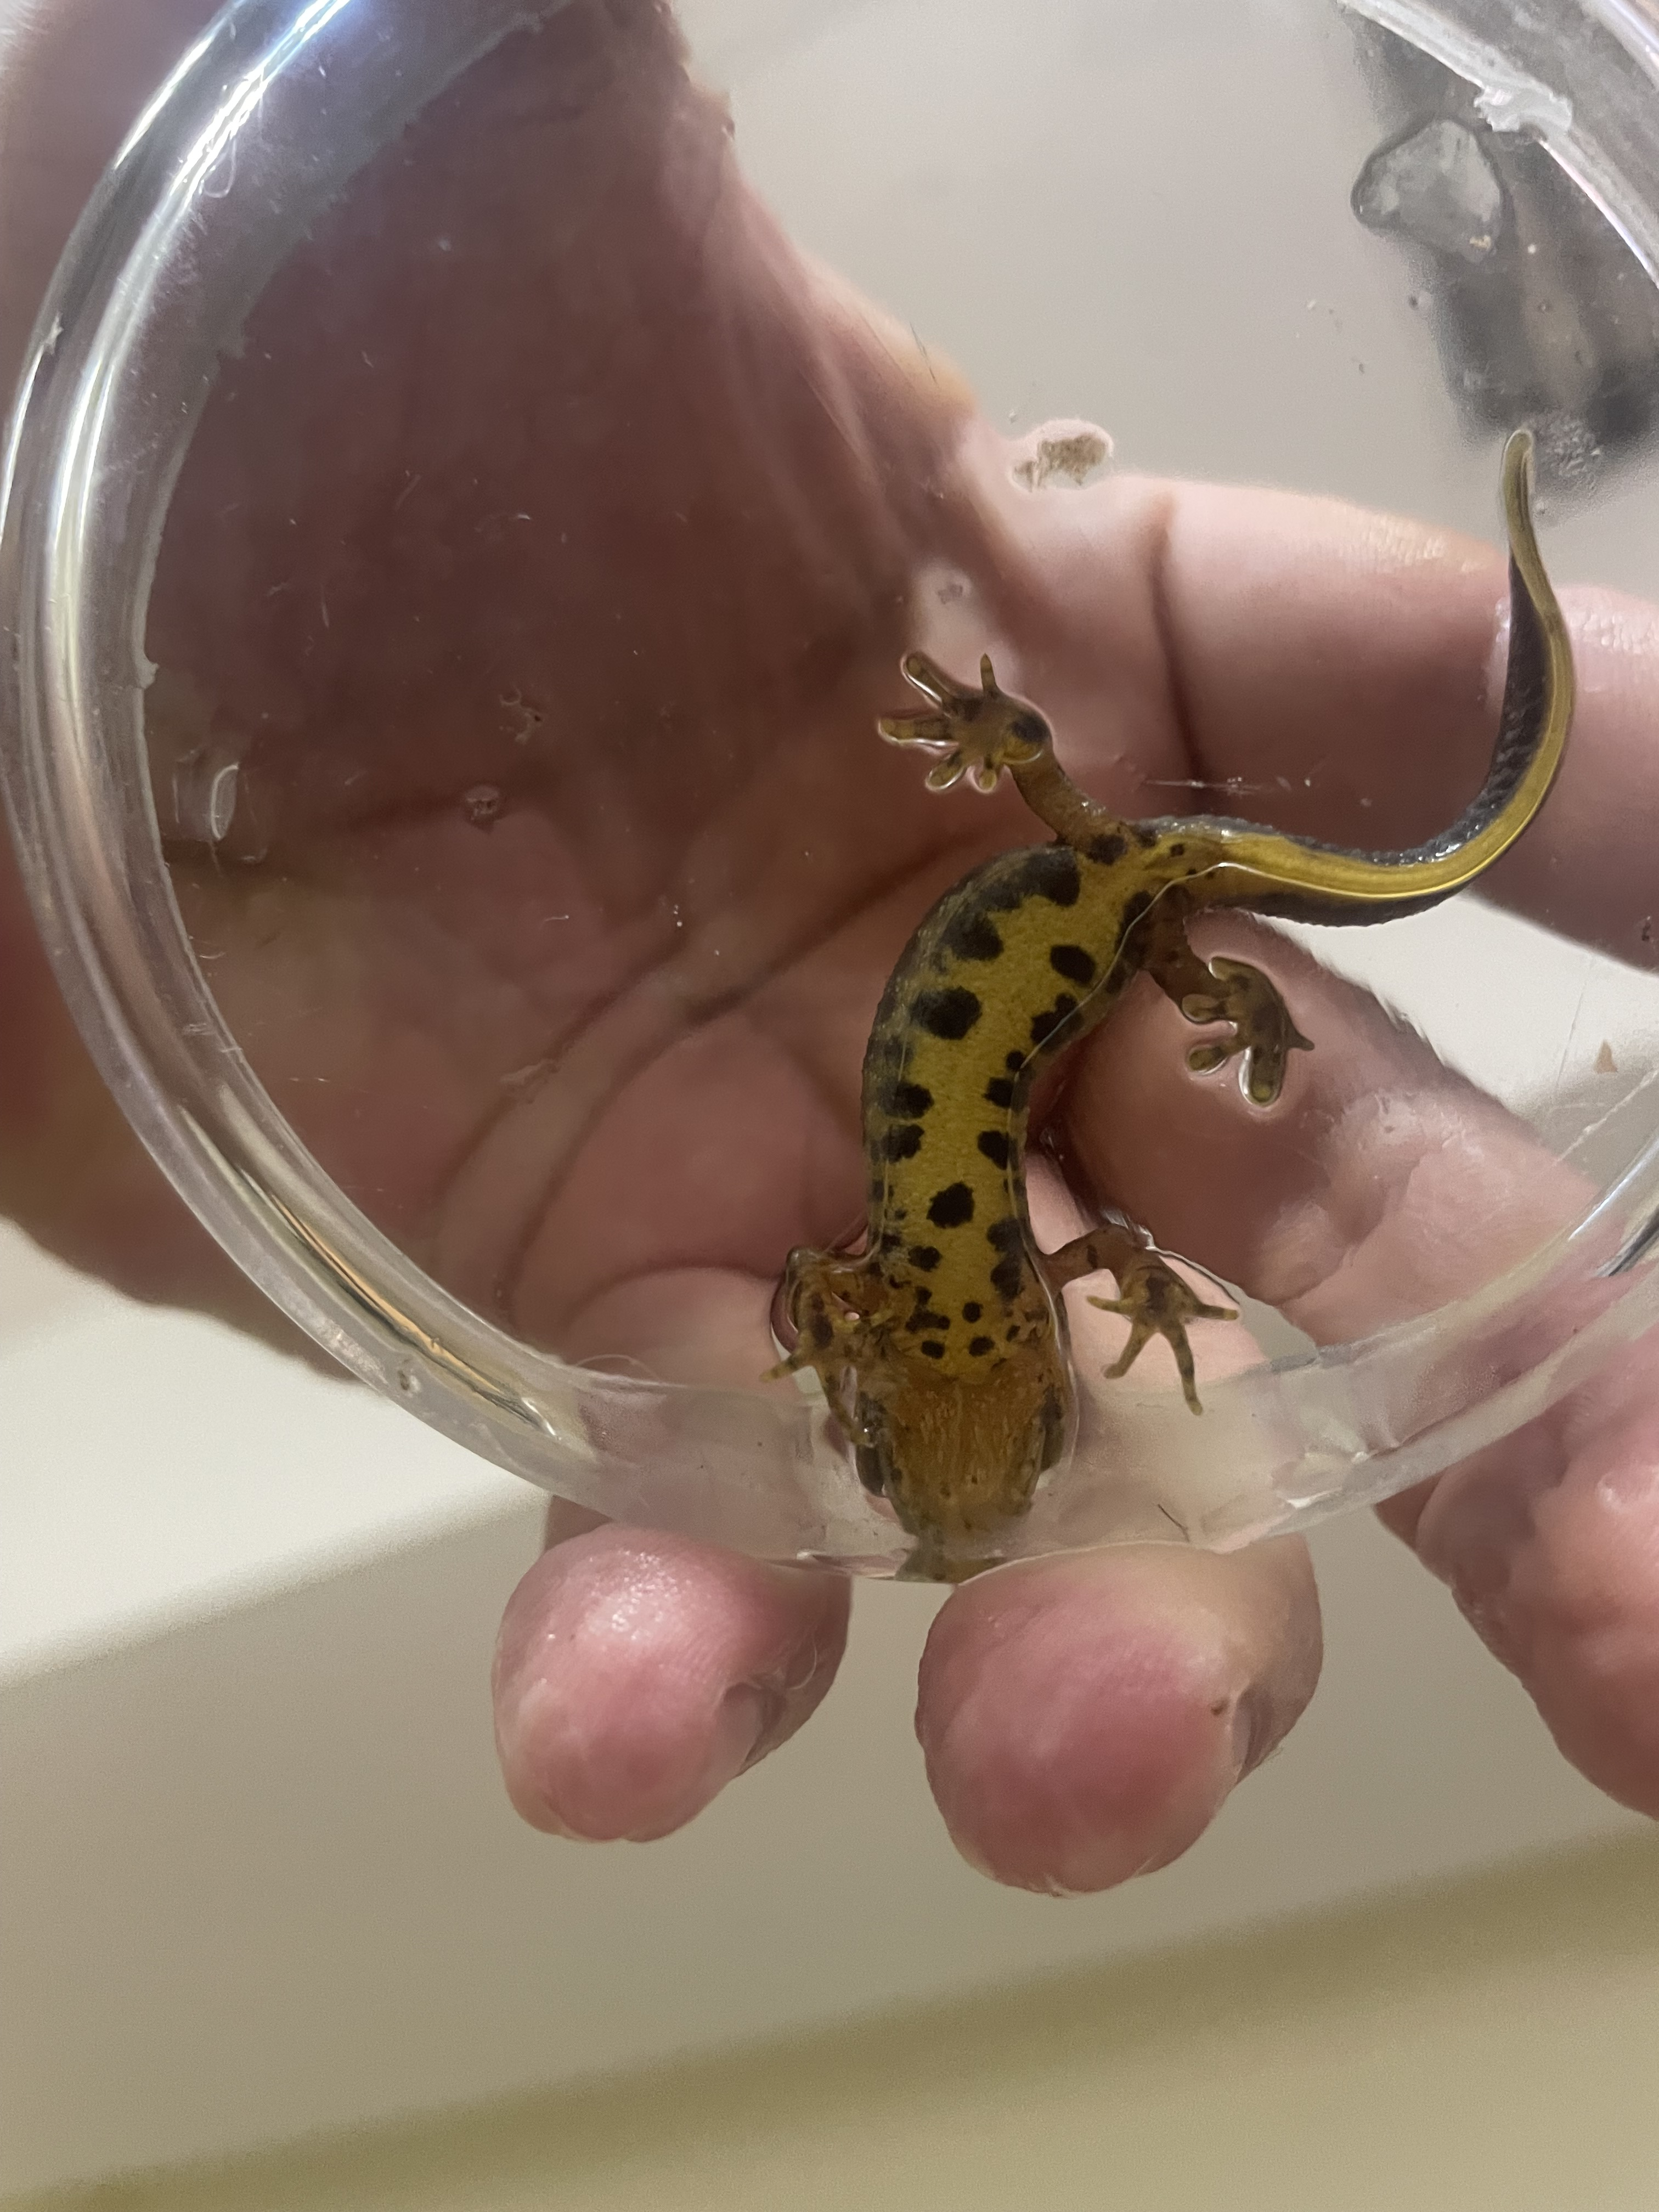Karelin_newt: (861, 841, 1140, 1256)
